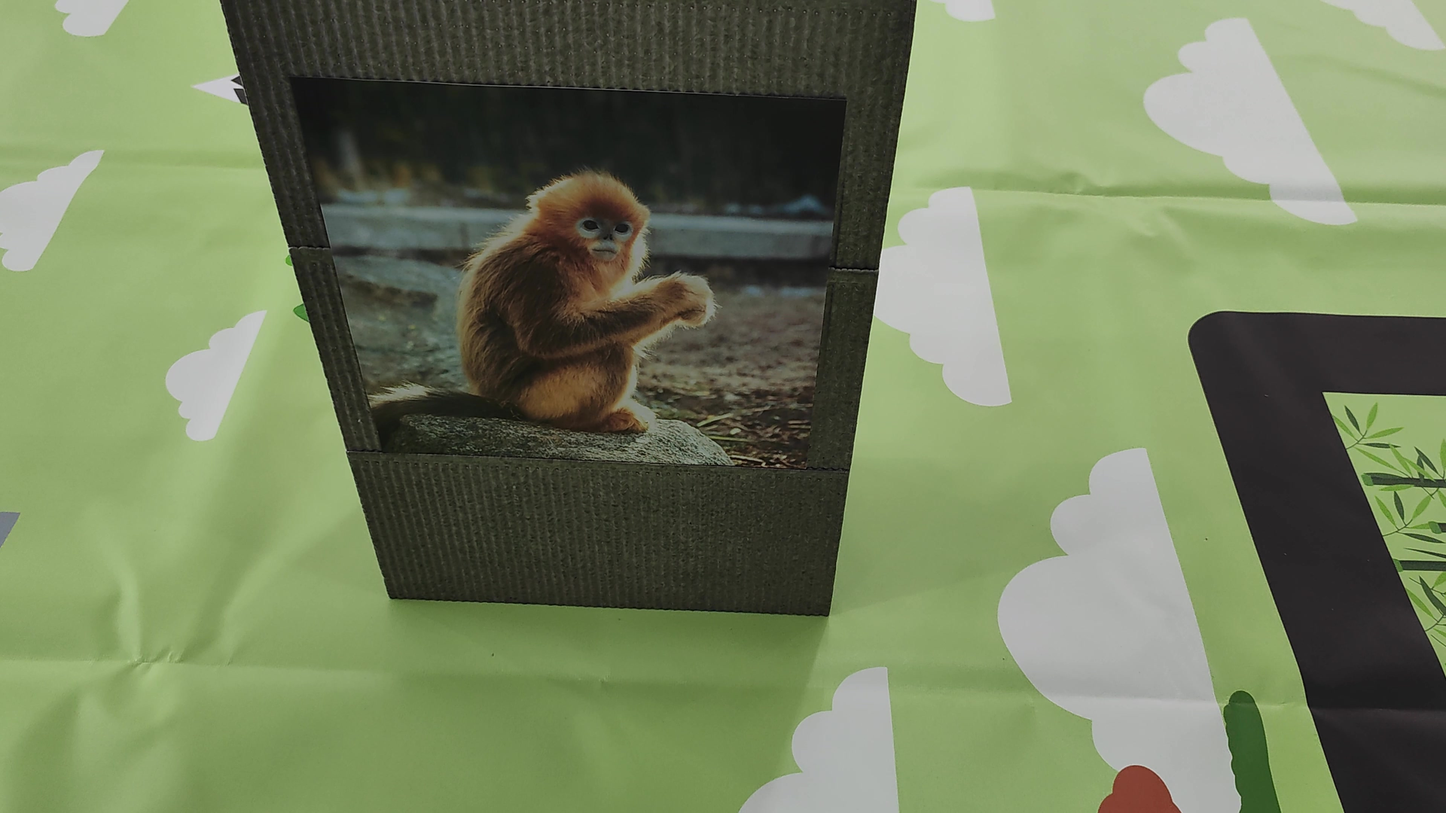monkey: (444, 158, 721, 456)
